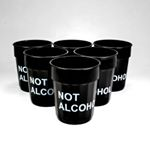cups: (47, 55, 98, 127), (21, 45, 70, 110), (71, 45, 117, 108)
